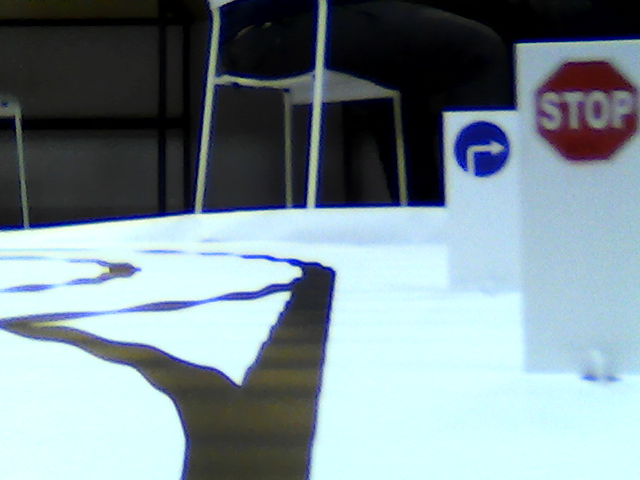Right: (456, 118, 508, 178)
Stop: (531, 53, 638, 164)
